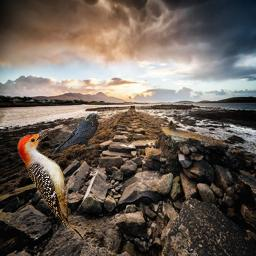Crow: (52, 113, 104, 154)
Woodpecker: (17, 128, 86, 243)
